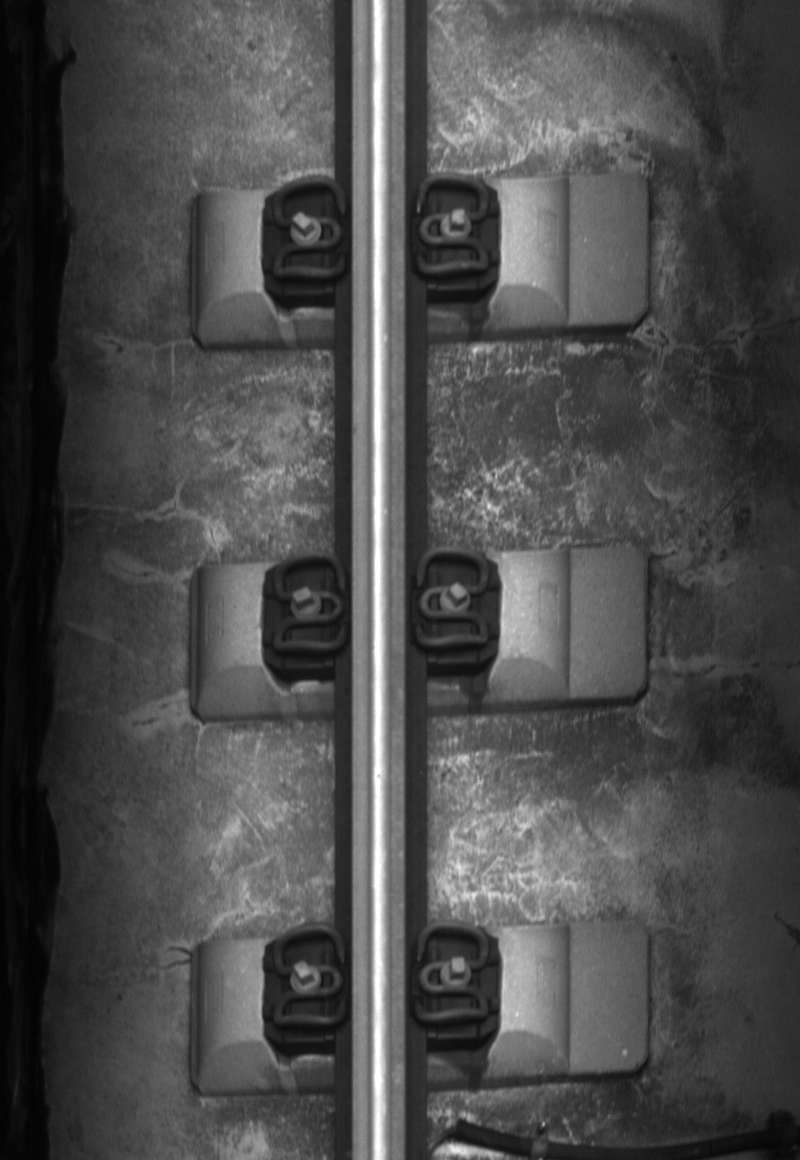l_faster: (265, 546, 352, 661), (267, 171, 352, 287), (267, 920, 351, 1037)
r_faster: (409, 168, 494, 284), (411, 543, 494, 655), (411, 917, 487, 1029)
